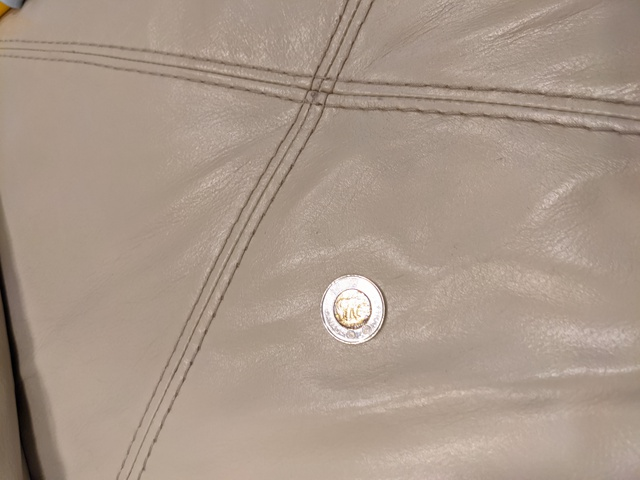twonie: (313, 269, 395, 350)
